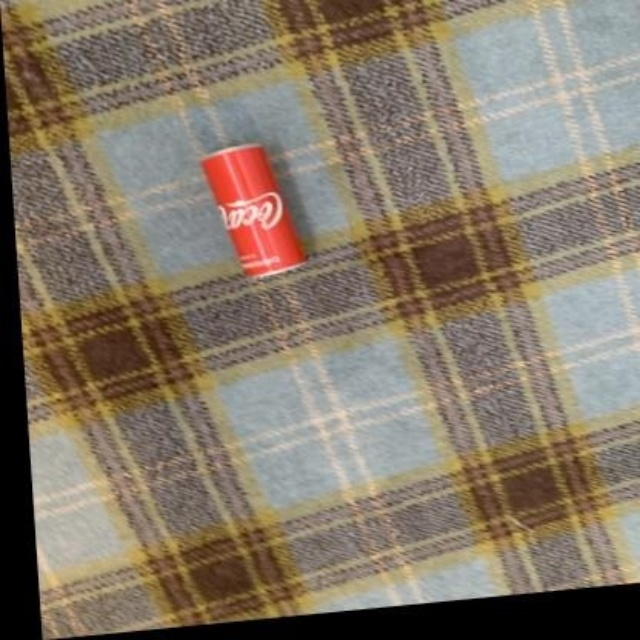trash: (202, 145, 305, 275)
